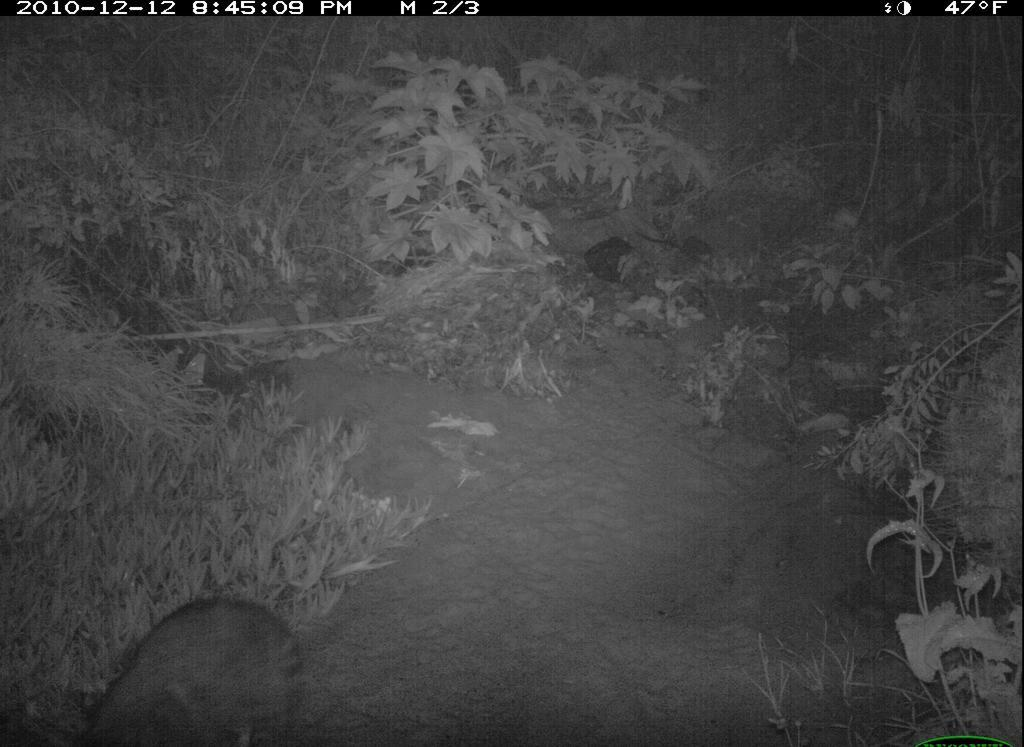raccoon: (76, 591, 309, 747)
